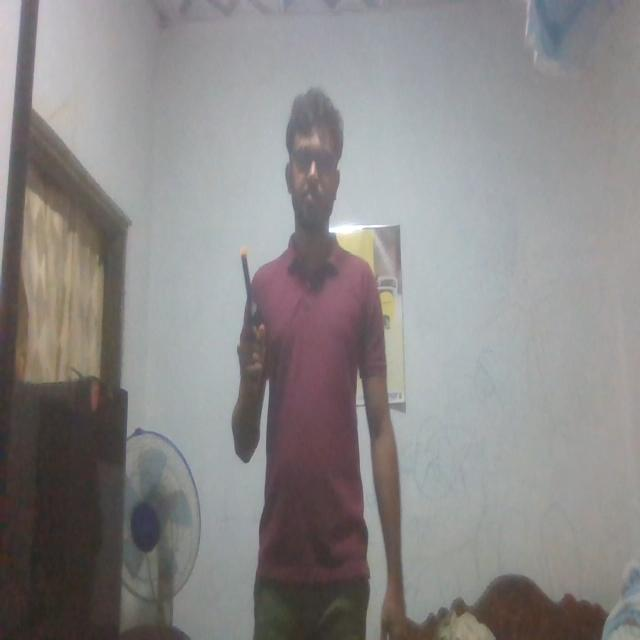Gun_Holder: (232, 244, 270, 362)
Person: (229, 91, 406, 640)
